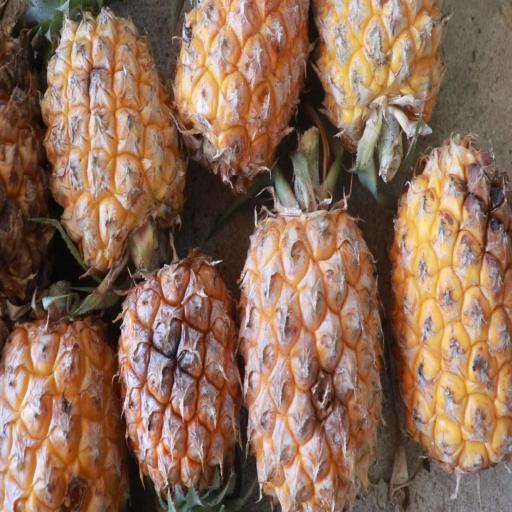Pineapple - v8 v1: (239, 157, 387, 510), (392, 138, 511, 486), (42, 10, 188, 272), (116, 241, 241, 512), (0, 296, 130, 512), (172, 0, 313, 183), (310, 0, 444, 155), (0, 0, 50, 312), (330, 0, 360, 161)
